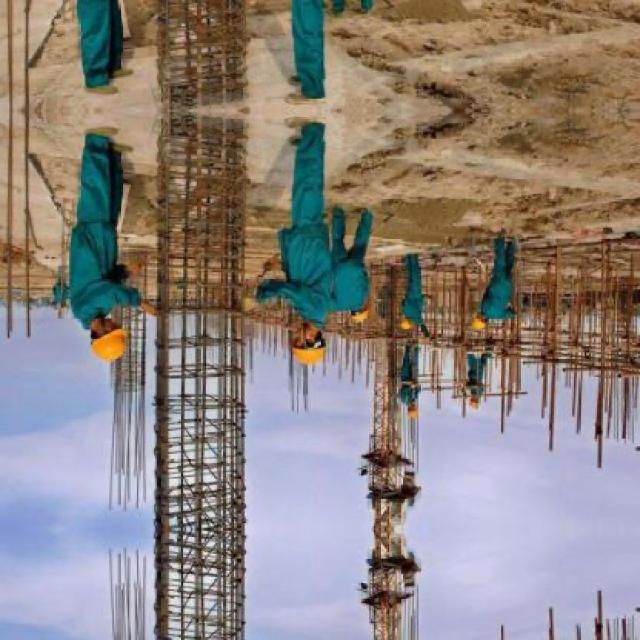con casco: (62, 264, 154, 366), (243, 292, 340, 370), (385, 301, 443, 343), (445, 298, 489, 343), (345, 276, 386, 322)
